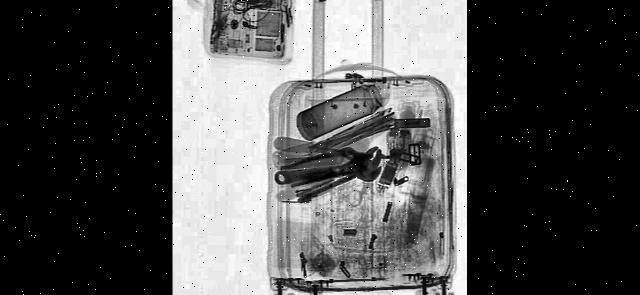Wrench: (274, 148, 381, 189)
